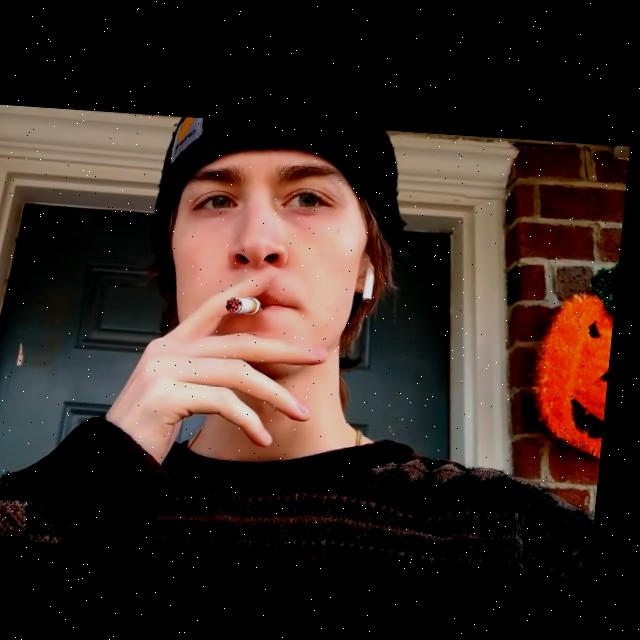cigarette: (230, 293, 264, 313)
